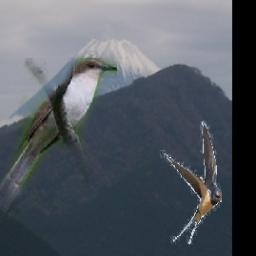Cuckoo: (0, 58, 118, 221)
Swallow: (159, 120, 223, 245)
